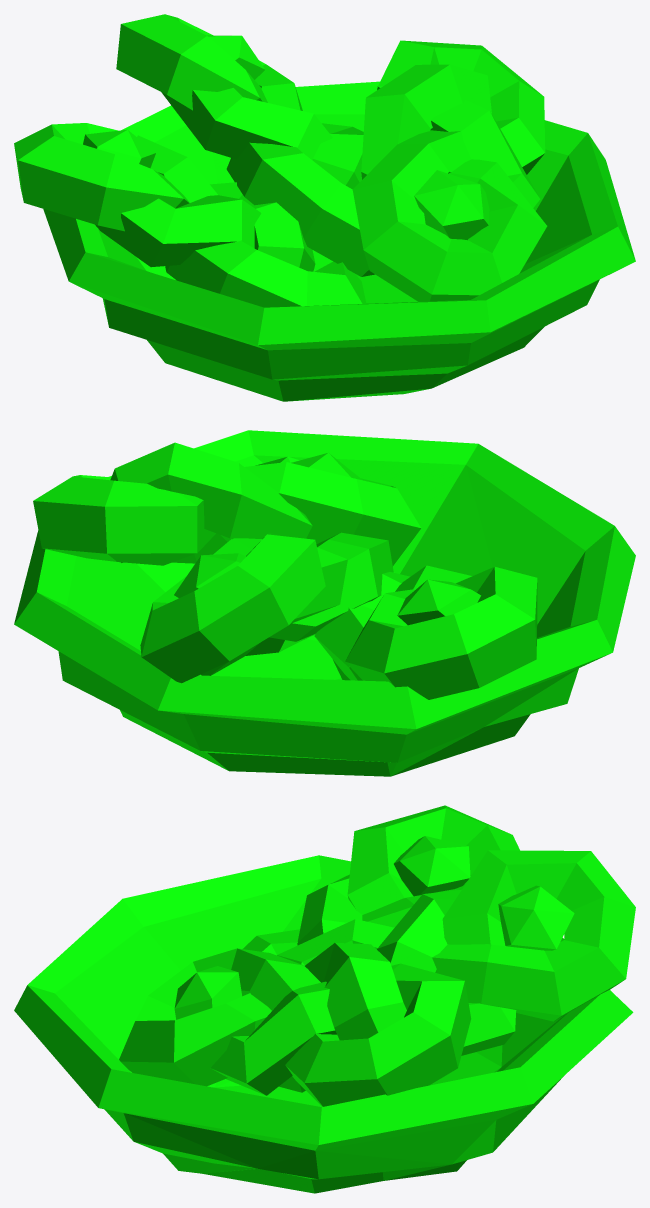
The model's file is SM_Basket_Bun_Wheat_Fantasy.fbx.
3 views of the same model, one above another, from view 1: azimuth 30°, elevation 25°; view 2: azimuth 150°, elevation 25°; view 3: azimuth 270°, elevation 25° (orthographic). The views are drawn at different scales.
Parts seen in each view (by area): view 1: basket-bun-wheat-fantasy; view 2: basket-bun-wheat-fantasy; view 3: basket-bun-wheat-fantasy.
Part boxes in pixels (bbox=[...]): basket-bun-wheat-fantasy: bbox=[14, 14, 635, 401]; basket-bun-wheat-fantasy: bbox=[14, 430, 635, 776]; basket-bun-wheat-fantasy: bbox=[14, 805, 635, 1193].
Bounding box in the file's own units: 0.3994 × 0.1799 × 0.3993.
